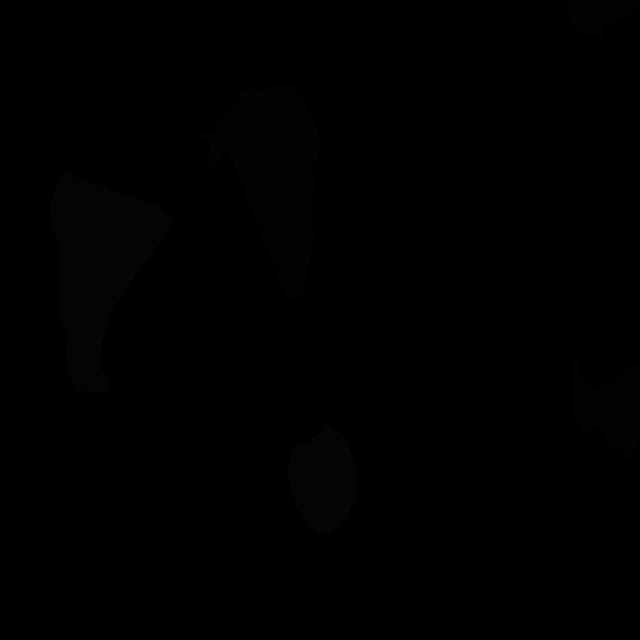cardboard: (198, 81, 320, 299), (571, 359, 640, 460), (567, 0, 640, 39)
soft_plastic: (50, 173, 176, 392), (288, 427, 356, 534)
